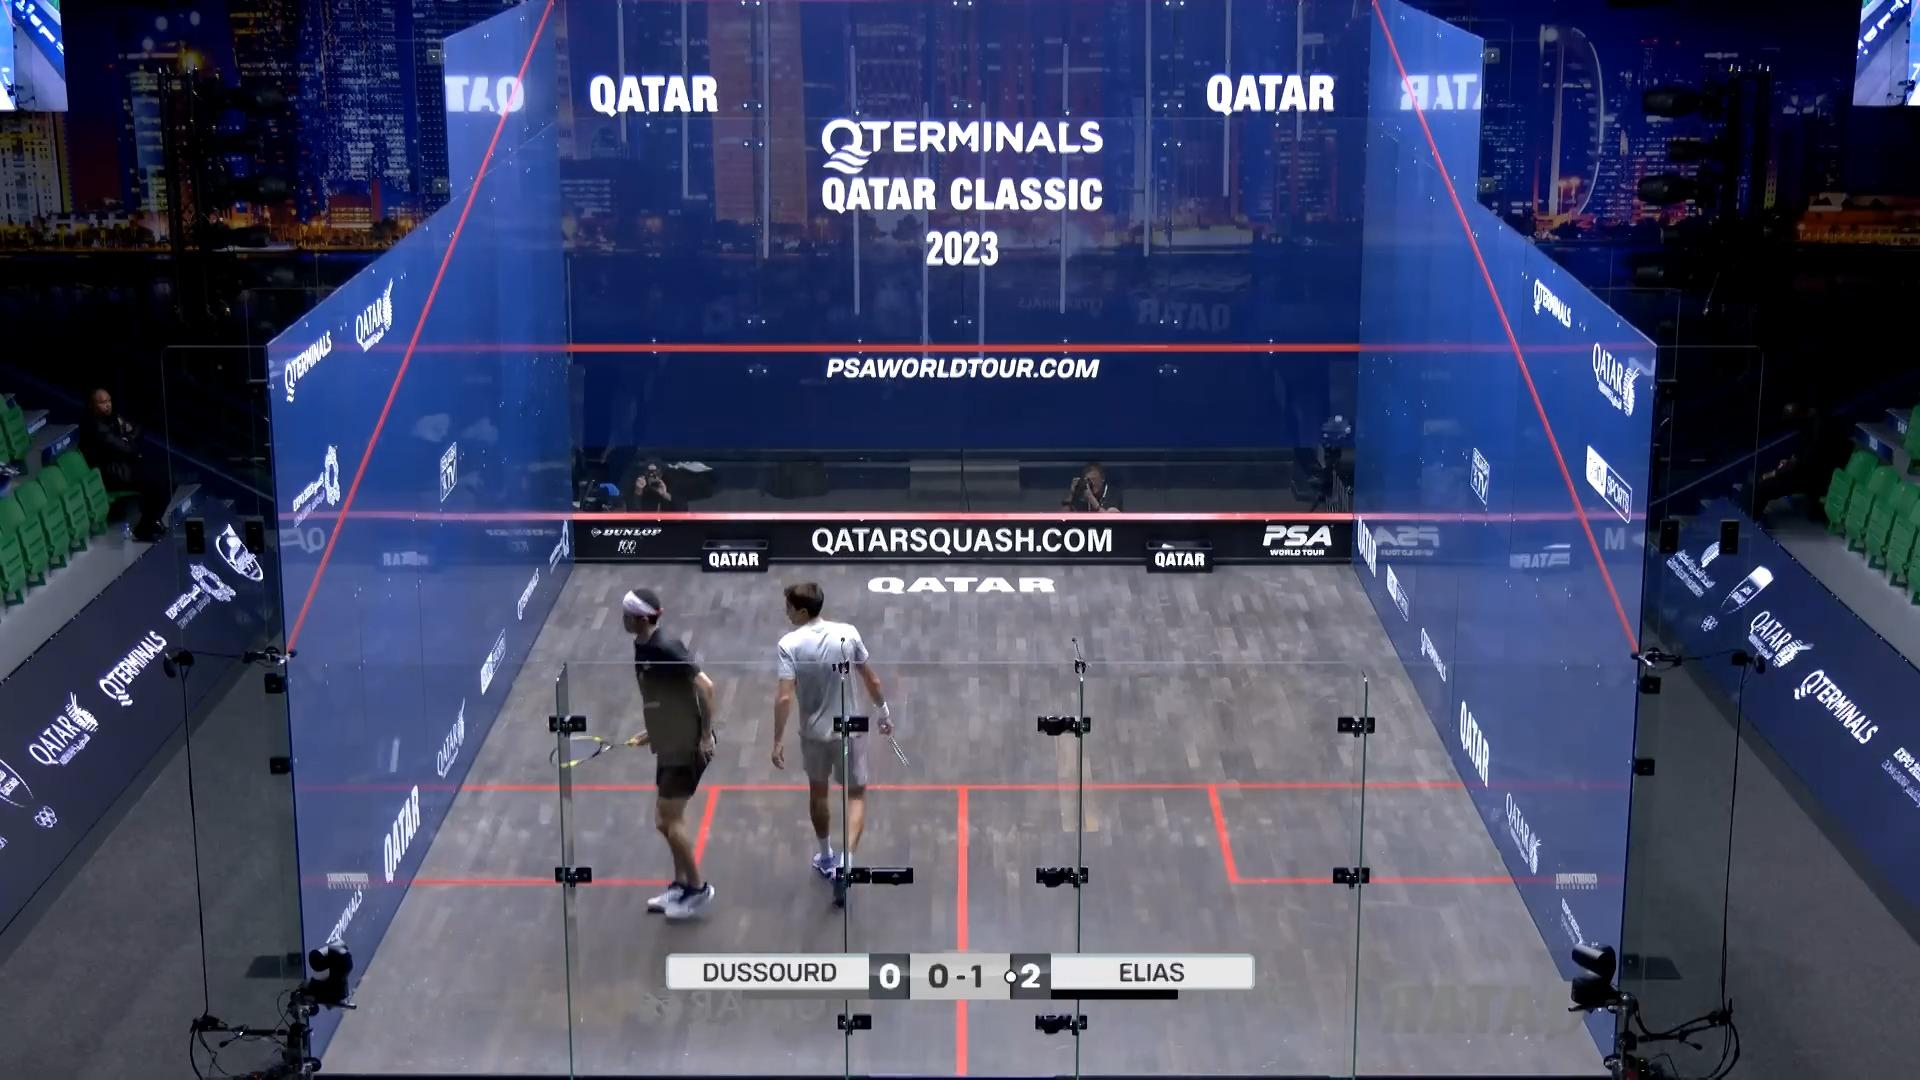Racket: (546, 725, 626, 782)
